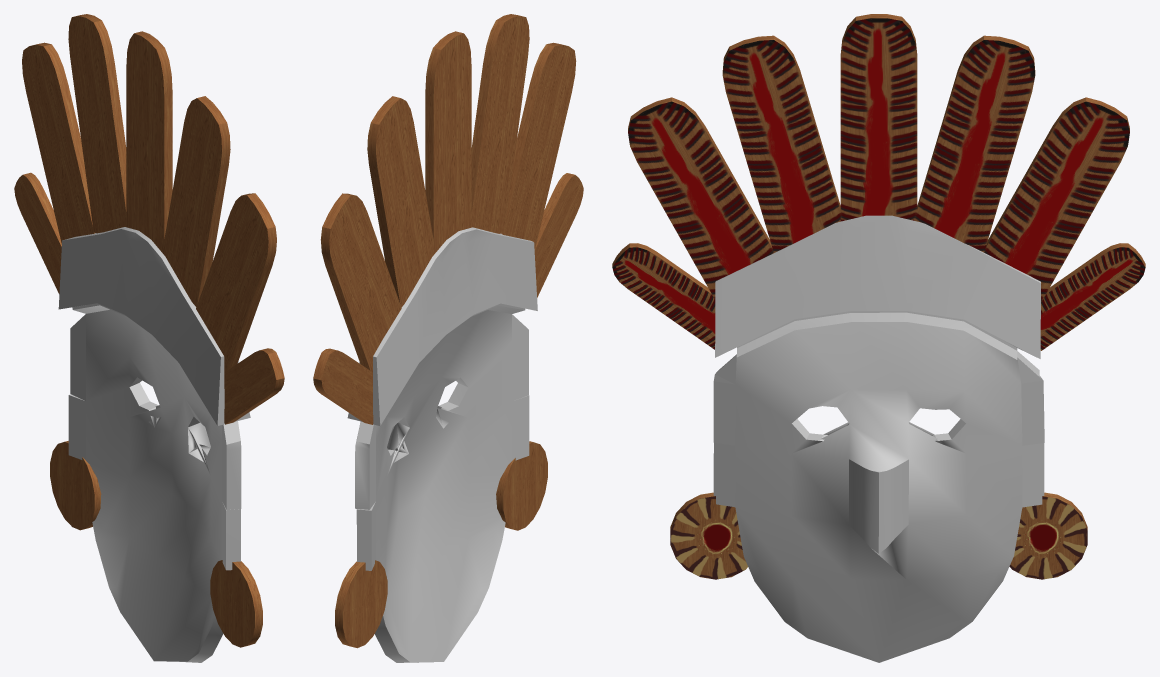
Rendered from maya_Mask.FBX.
3 views of the same model, side by side, from view 1: azimuth 30°, elevation 25°; view 2: azimuth 150°, elevation 25°; view 3: azimuth 270°, elevation 25° (orthographic).
Visible parts, largest first — view 1: Plane002, Plane001, Plane005, Plane003, Plane006, Plane004, Cylinder002, Cylinder001, Plane008, Plane007; view 2: Plane002, Plane001, Plane003, Plane005, Plane004, Plane006, Cylinder001, Cylinder002, Plane007, Plane008; view 3: Plane002, Plane005, Plane003, Plane001, Plane004, Plane006, Plane007, Plane008, Cylinder001, Cylinder002.
Boxes of the visible parts, left/top/right/bottom form: Plane002: left=58, top=227, right=250, bottom=662; Plane001: left=126, top=31, right=172, bottom=252; Plane005: left=162, top=96, right=230, bottom=307; Plane003: left=68, top=14, right=126, bottom=233; Plane006: left=196, top=193, right=276, bottom=372; Plane004: left=22, top=42, right=94, bottom=244; Cylinder002: left=210, top=560, right=262, bottom=647; Cylinder001: left=50, top=441, right=101, bottom=530; Plane008: left=224, top=348, right=284, bottom=424; Plane007: left=14, top=172, right=61, bottom=293; Plane002: left=347, top=227, right=537, bottom=662; Plane001: left=425, top=31, right=471, bottom=254; Plane003: left=367, top=96, right=433, bottom=307; Plane005: left=470, top=14, right=529, bottom=233; Plane004: left=320, top=193, right=401, bottom=376; Plane006: left=501, top=42, right=576, bottom=250; Cylinder001: left=335, top=560, right=387, bottom=648; Cylinder002: left=496, top=441, right=547, bottom=530; Plane007: left=313, top=348, right=373, bottom=424; Plane008: left=534, top=173, right=583, bottom=297; Plane002: left=713, top=215, right=1044, bottom=662; Plane005: left=722, top=35, right=840, bottom=252; Plane003: left=914, top=35, right=1035, bottom=252; Plane001: left=840, top=14, right=917, bottom=221; Plane004: left=984, top=97, right=1129, bottom=301; Plane006: left=628, top=97, right=773, bottom=299; Plane007: left=1040, top=243, right=1145, bottom=350; Plane008: left=612, top=243, right=715, bottom=349; Cylinder001: left=1009, top=492, right=1087, bottom=579; Cylinder002: left=670, top=492, right=747, bottom=579.
Bounding box in the file's own units: 6.65 × 45.81 × 34.67.
